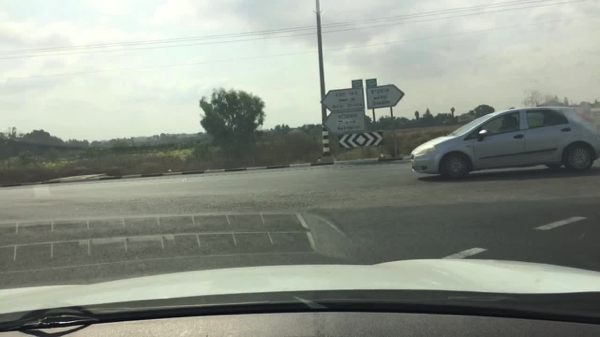car: (408, 105, 599, 179)
traffic sign: (320, 79, 363, 111), (364, 79, 404, 111), (322, 112, 364, 133), (337, 132, 382, 149)
